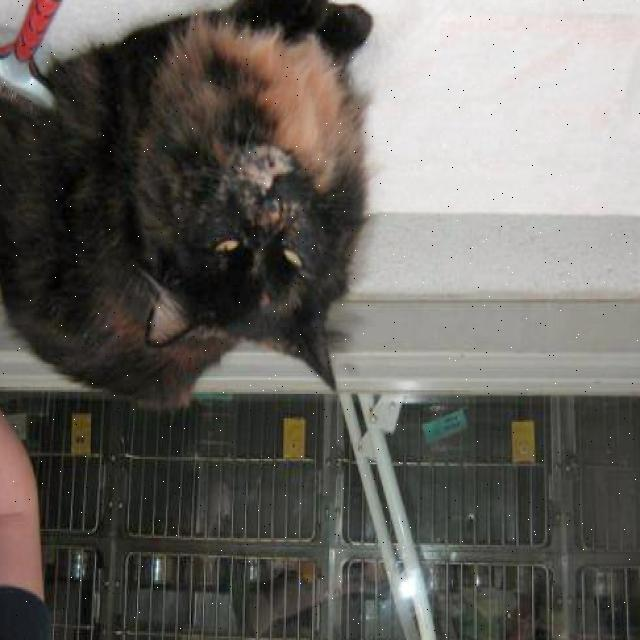Cat: (137, 118, 352, 392)
